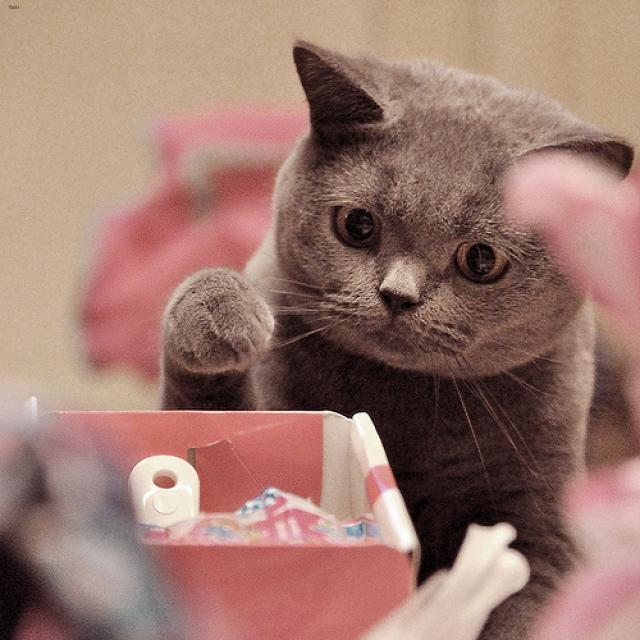British_Shorthair: (247, 35, 640, 382)
